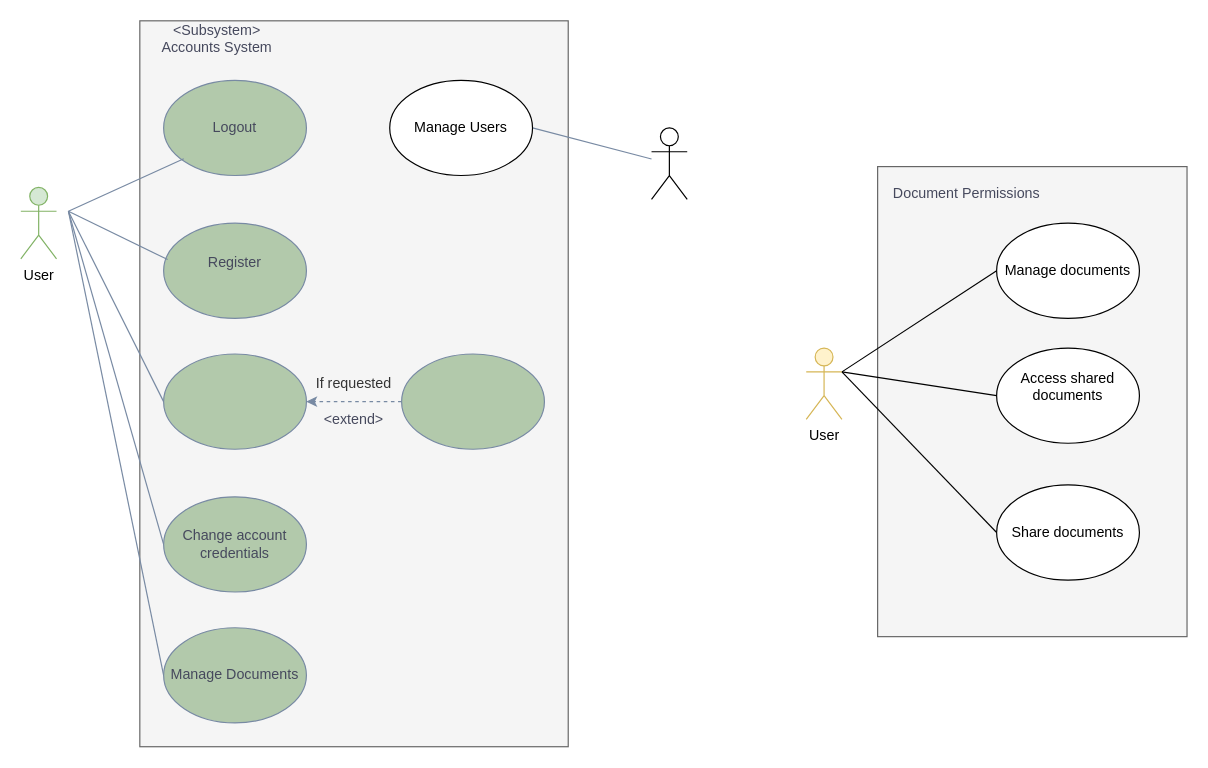
The diagram is 1208 pixels wide and 768 high, and some of its shapes have lost their labels. The centre of each missing label's shape, as x and y in pixels:
Admin: the point at 668,163
Login: the point at 234,401
Reset Password: the point at 472,401
